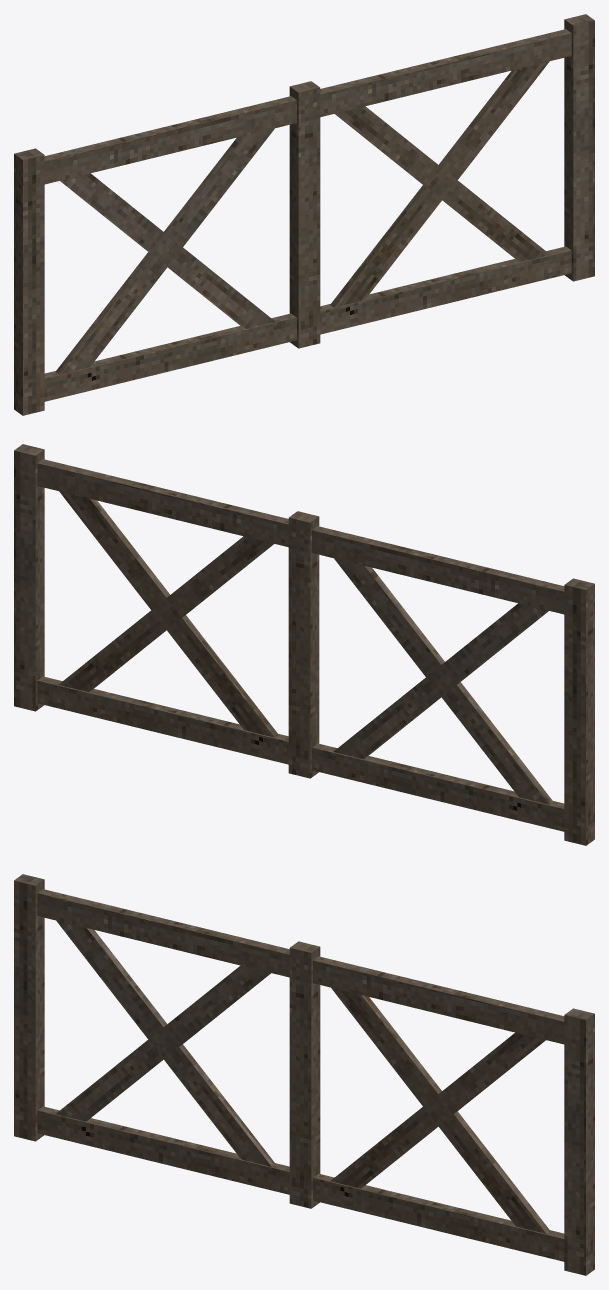
File: GD 3D Fence Wood 2 Sections.fbx
3 views of the same model, one above another, from view 1: azimuth 30°, elevation 25°; view 2: azimuth 150°, elevation 25°; view 3: azimuth 330°, elevation 25° (orthographic).
Visible parts, largest first — view 1: Wood Fence 1 Short 2 Sections; view 2: Wood Fence 1 Short 2 Sections; view 3: Wood Fence 1 Short 2 Sections.
Boxes of the visible parts, box(x1,y1,x2,y2) form: Wood Fence 1 Short 2 Sections: box(14, 14, 594, 415); Wood Fence 1 Short 2 Sections: box(14, 444, 594, 845); Wood Fence 1 Short 2 Sections: box(14, 874, 594, 1275).
Bounding box in the file's own units: 200 × 85.3 × 5.34.
